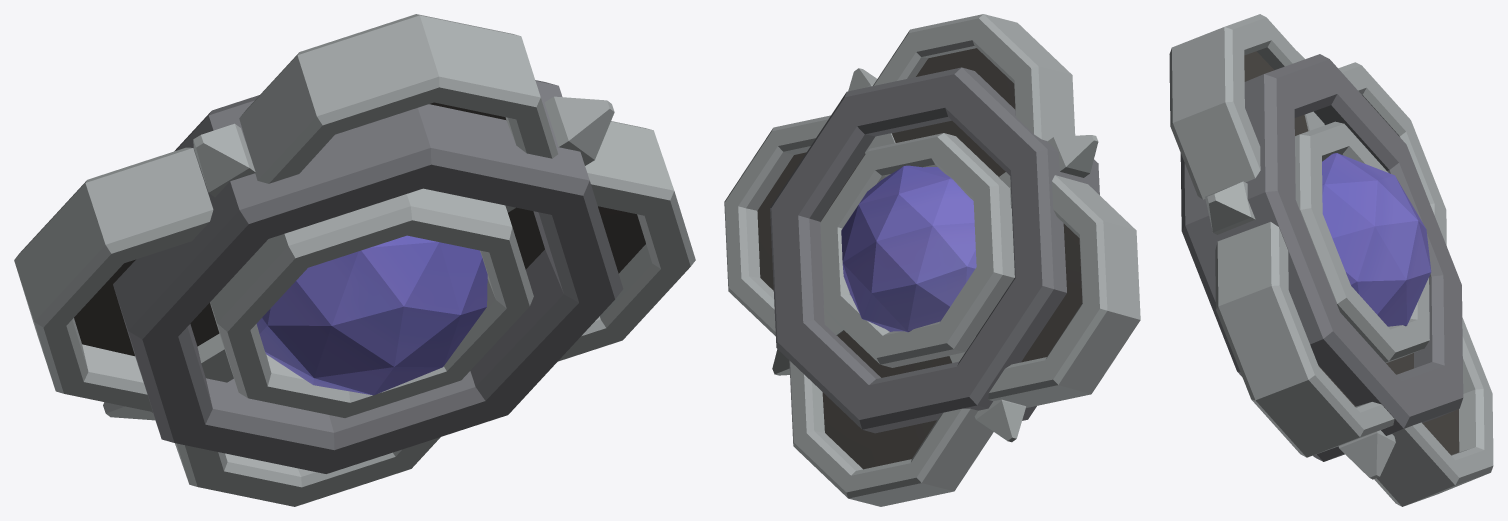
The model's file is genericTalisman.fbx.
3 views of the same model, side by side, from view 1: azimuth 30°, elevation 25°; view 2: azimuth 150°, elevation 25°; view 3: azimuth 270°, elevation 25° (orthographic). The views are drawn at different scales.
Parts seen in each view (by area): view 1: genericTalisman; view 2: genericTalisman; view 3: genericTalisman.
Part boxes in pixels (bbox=[...]): genericTalisman: bbox=[14, 14, 695, 506]; genericTalisman: bbox=[724, 14, 1140, 506]; genericTalisman: bbox=[1169, 14, 1493, 506].
Size of the model in its own units: 1.52 by 1.41 by 0.8904.
